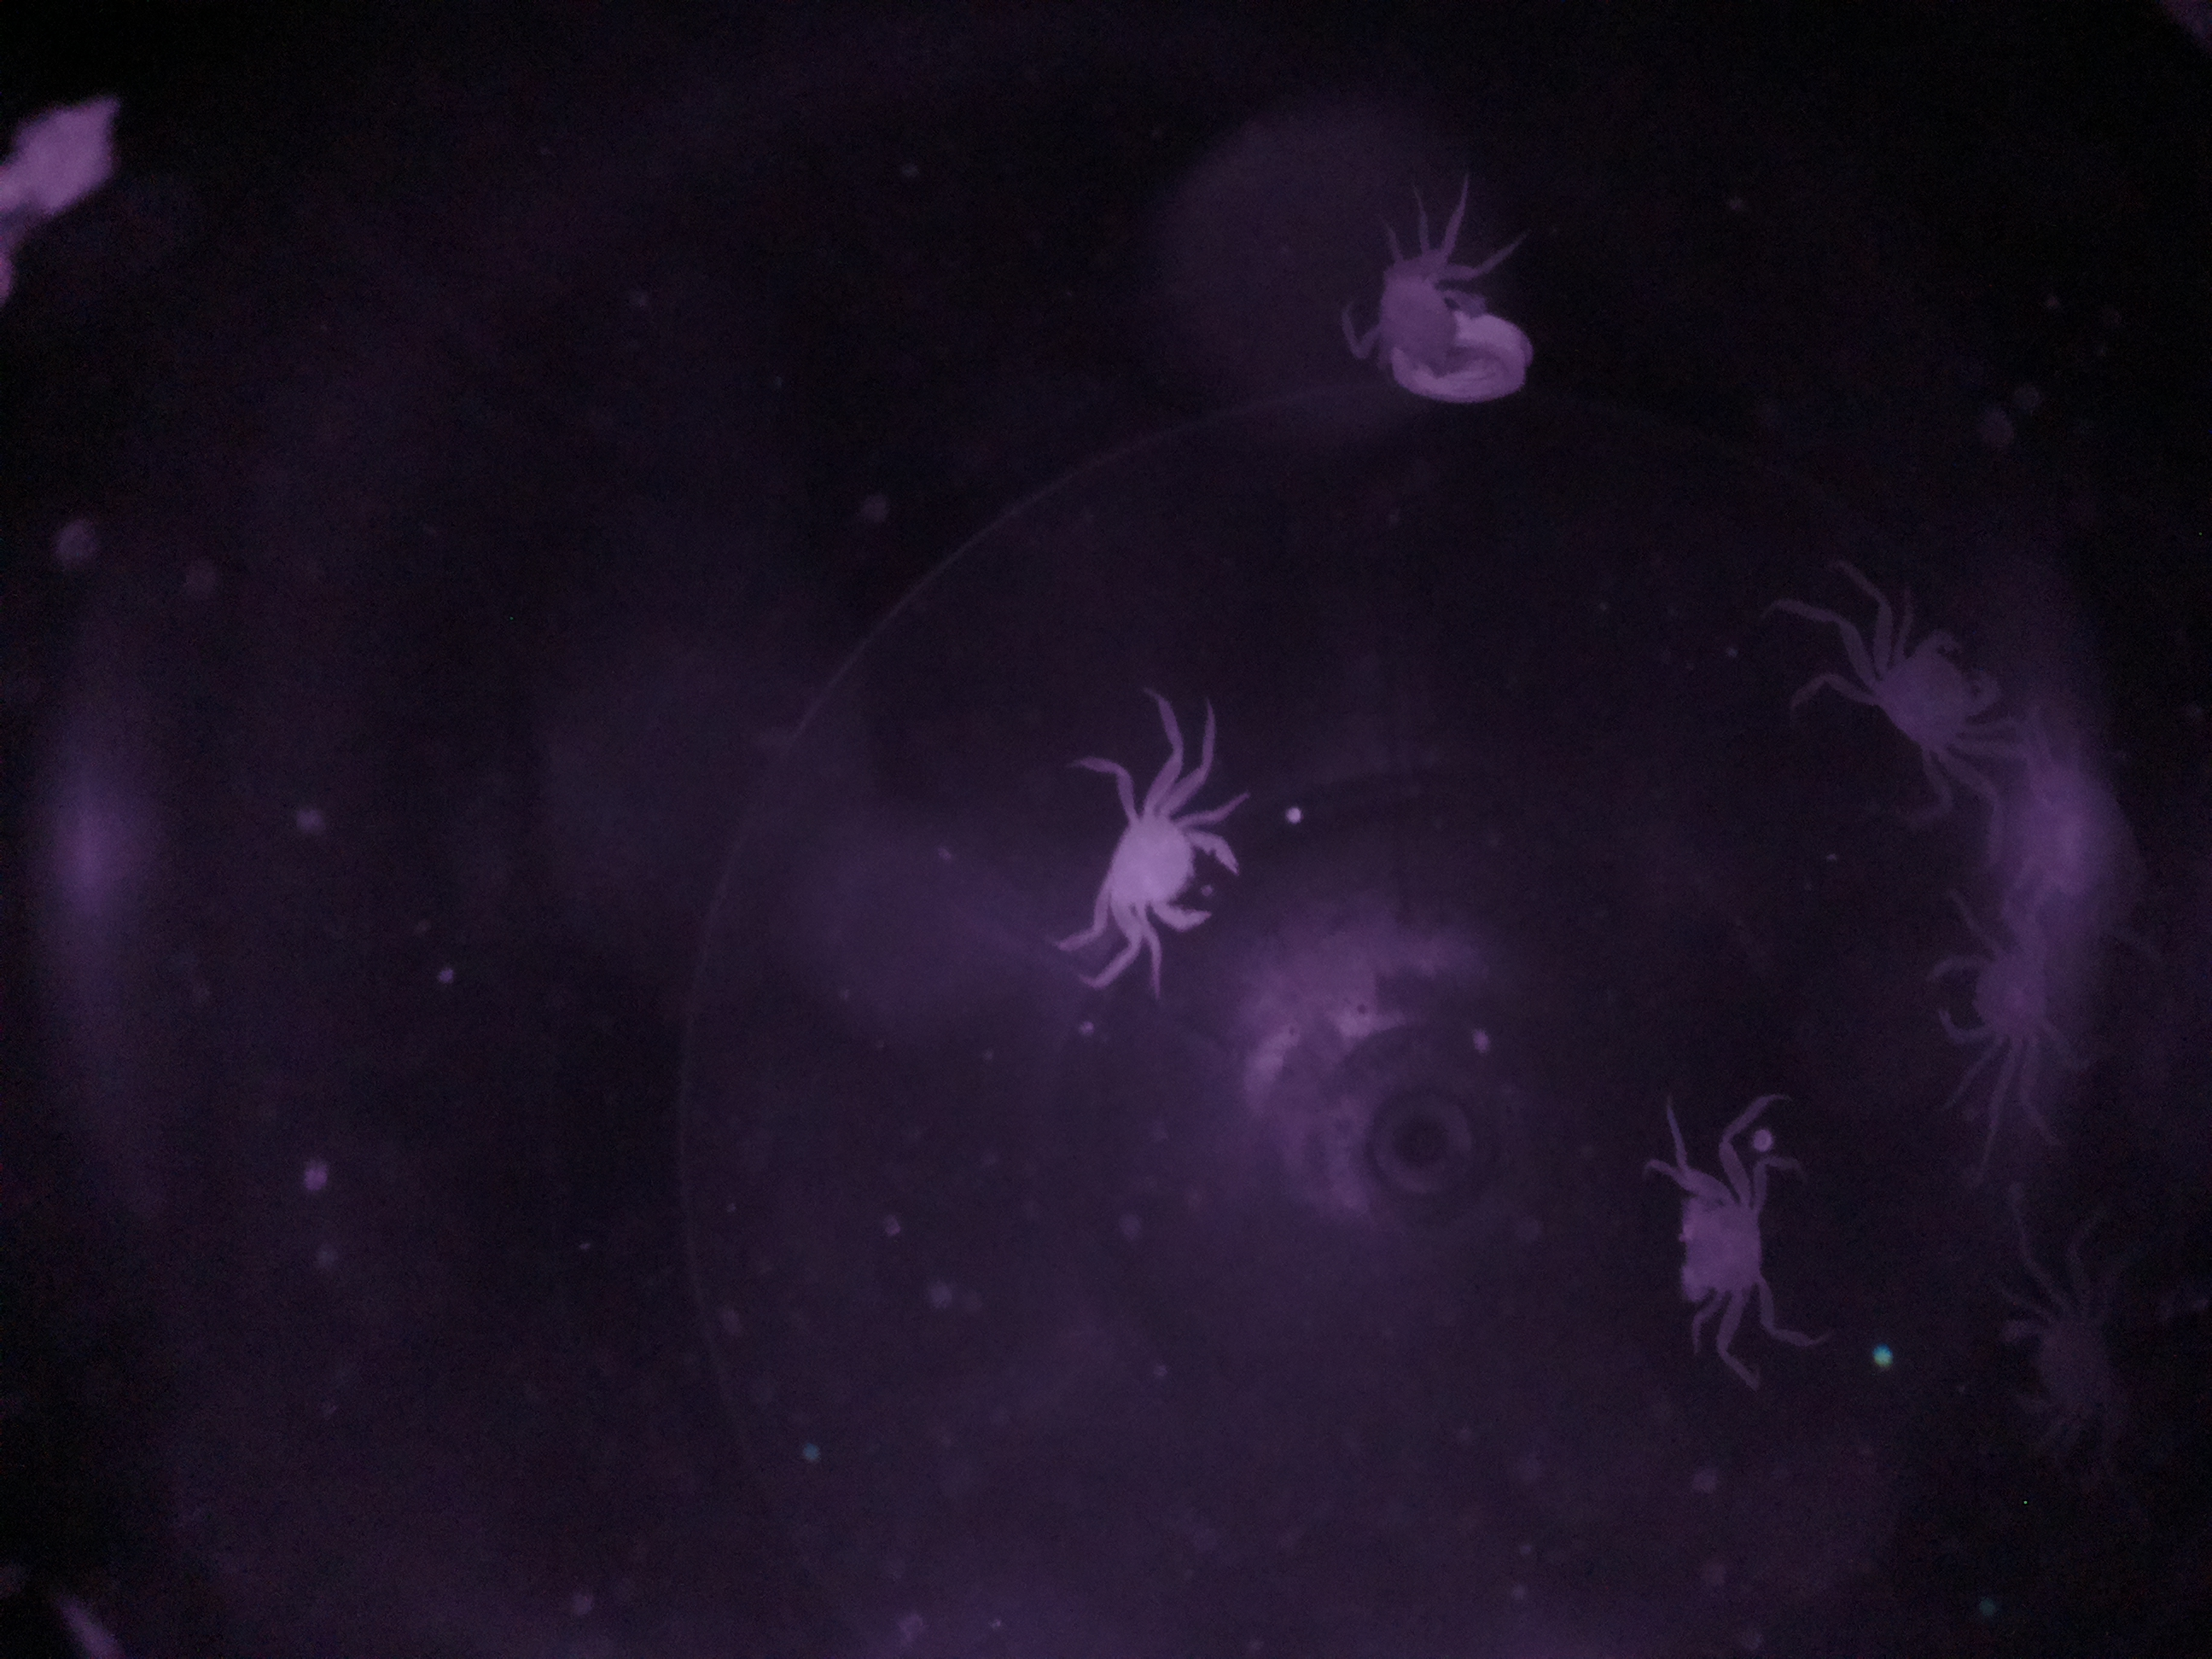Crab: (1642, 1093, 1808, 1354), (1066, 755, 1256, 964), (1838, 596, 2020, 809)
